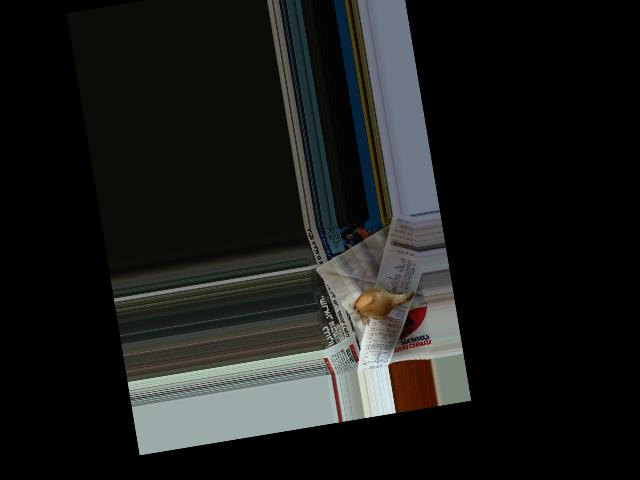onion: (356, 284, 398, 322)
